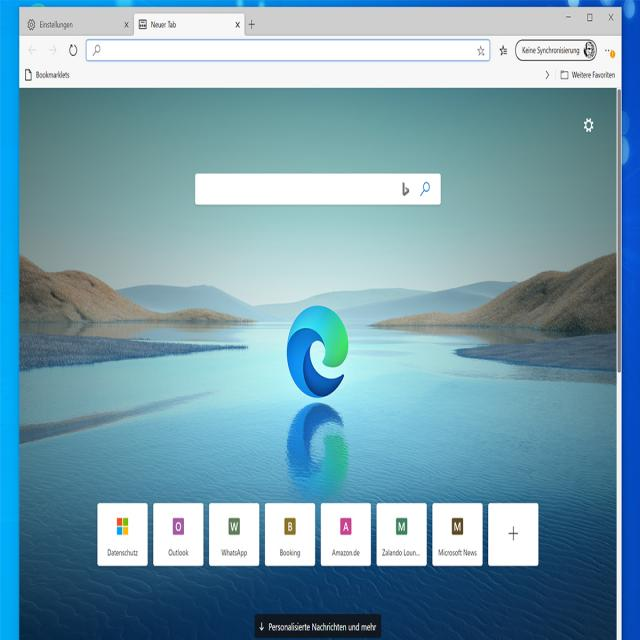button: (154, 502, 203, 566), (265, 504, 315, 566), (432, 504, 482, 566), (210, 504, 260, 566), (377, 503, 426, 566), (20, 8, 133, 35), (321, 504, 371, 565), (98, 504, 147, 566), (489, 504, 538, 566), (255, 614, 381, 637), (134, 13, 244, 35), (516, 39, 596, 61), (556, 64, 620, 86), (20, 64, 76, 86), (618, 90, 621, 372), (580, 112, 598, 140), (579, 7, 601, 26), (601, 7, 621, 27), (559, 7, 579, 26), (600, 40, 618, 60), (46, 40, 60, 60), (245, 15, 259, 34), (66, 41, 80, 60), (540, 66, 554, 84), (419, 179, 432, 198), (497, 41, 510, 60), (399, 180, 412, 198), (26, 41, 38, 60), (91, 42, 102, 58), (476, 43, 487, 59), (122, 18, 130, 31), (234, 19, 241, 30)
field: (86, 39, 491, 59), (196, 173, 440, 205)
